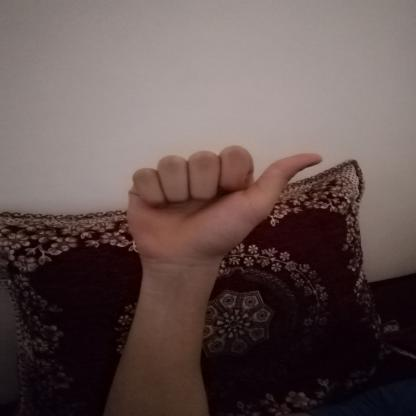DAD: (112, 138, 335, 280)
